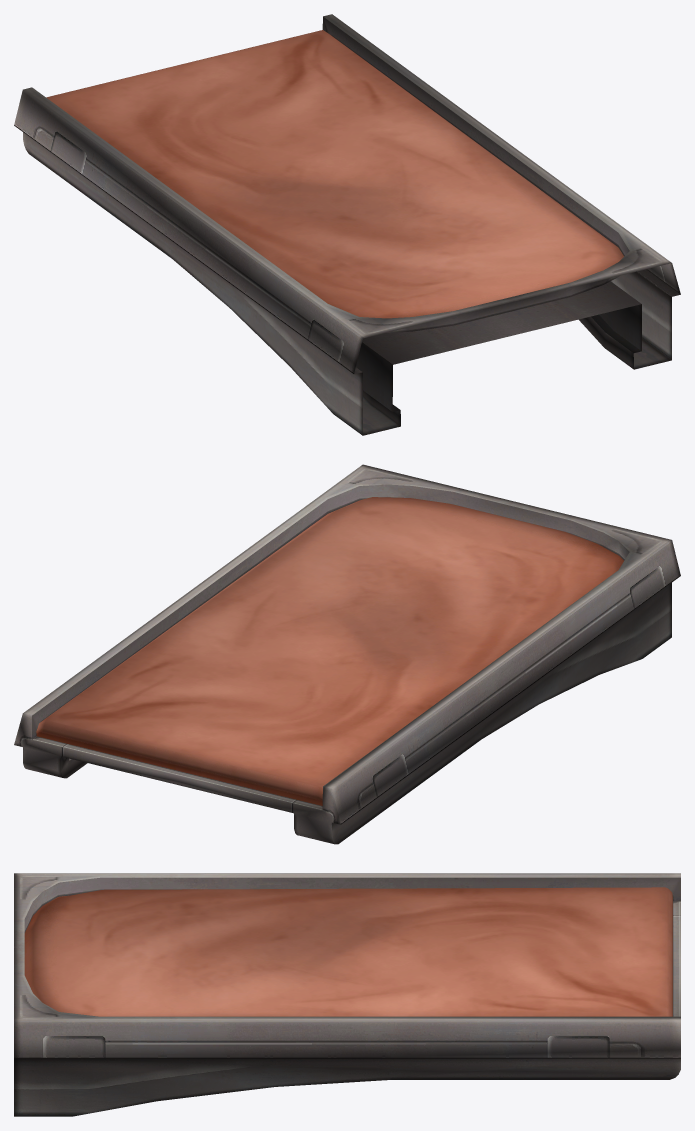
Rendered from bed2.glb.
The picture shows the model from 3 angles, top to bottom: view 1: azimuth 30°, elevation 25°; view 2: azimuth 150°, elevation 25°; view 3: azimuth 270°, elevation 25°; orthographic projection.
Visible parts, largest first — view 1: Box01; view 2: Box01; view 3: Box01.
Part boxes in pixels (x1,y1,x2,y2): Box01: [14, 14, 680, 435]; Box01: [14, 464, 680, 844]; Box01: [14, 873, 680, 1116].
Bounding box in the file's own units: 73.45 × 20.9 × 132.
Materials: 1 (1 with a texture image).
